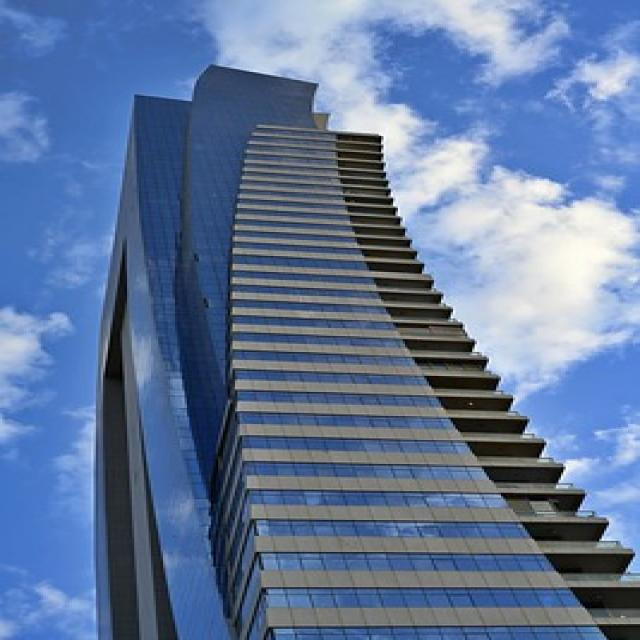Normal_building: (79, 60, 640, 638)
